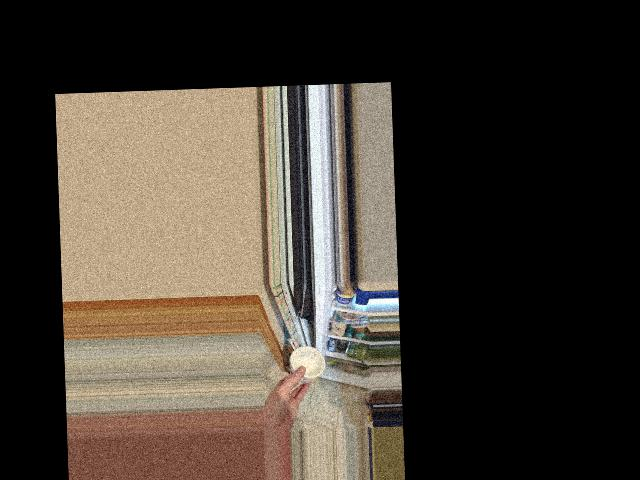cotage: (288, 340, 324, 386)
